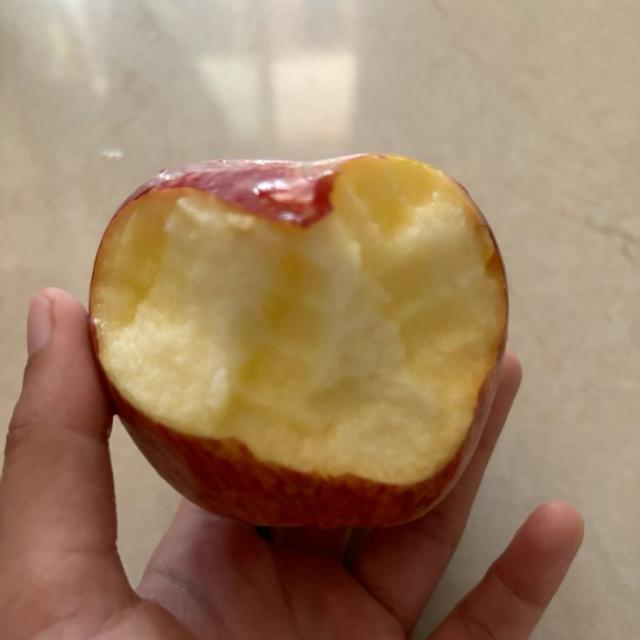apple: (91, 155, 507, 527)
